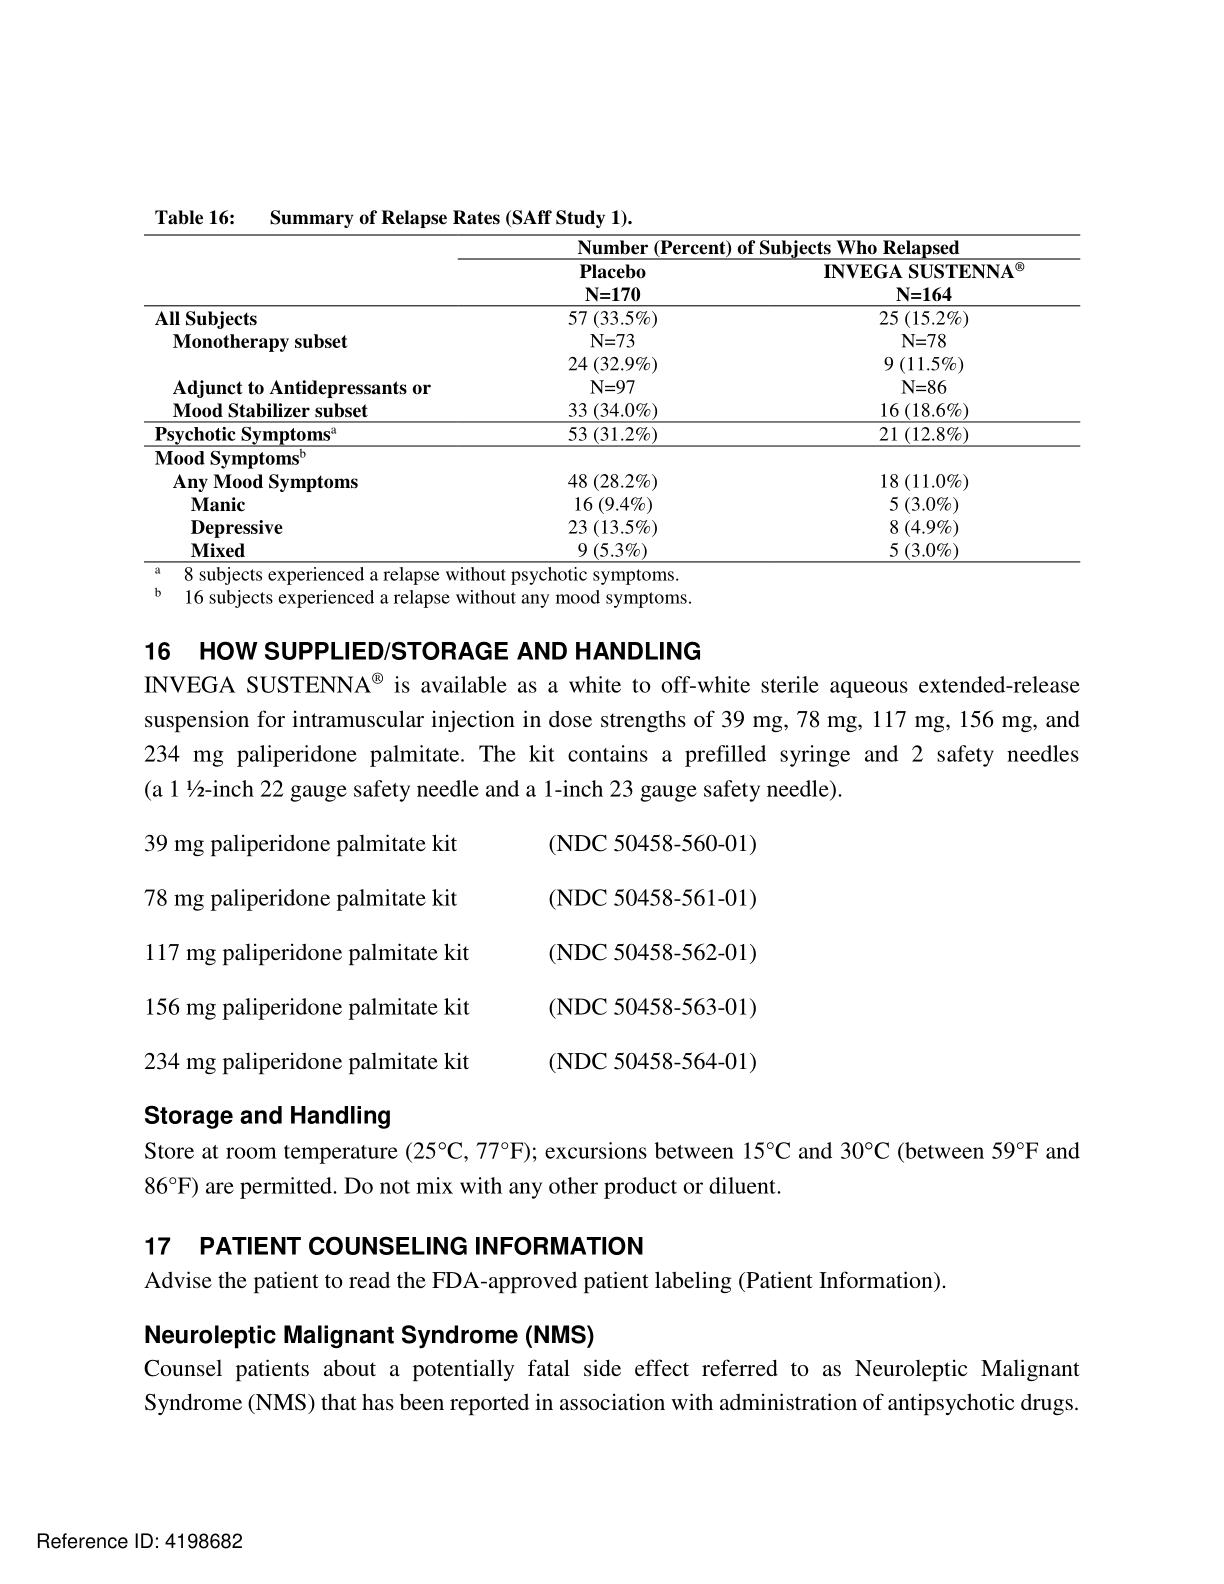nolines: (141, 825, 765, 1076)
partial_lined_merged_cells: (140, 231, 1086, 566)
